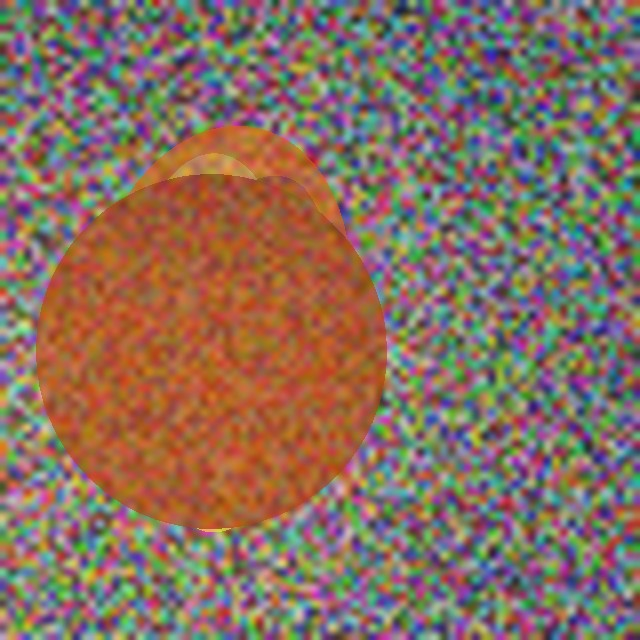fire: (66, 270, 374, 492)
